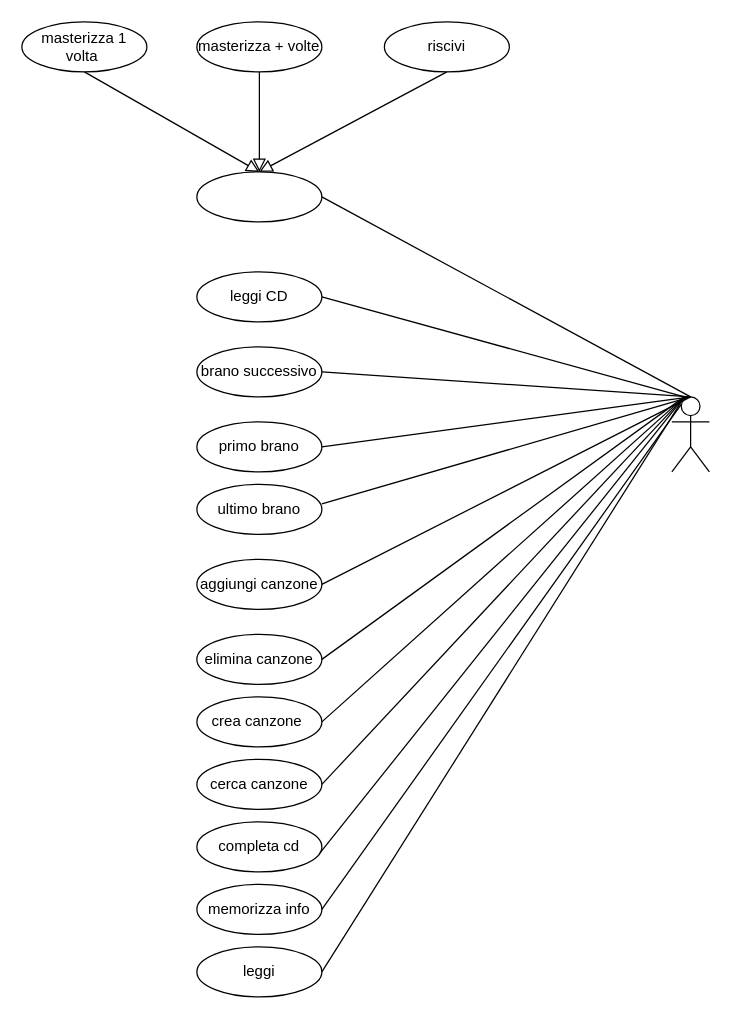
The diagram is 733 pixels wide and 1019 high, and some of its shapes have lost their labels. Each missing label, with the centre of its shape:
masterizzazione CD: (259,196)
utente: (690,434)
